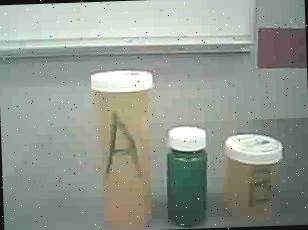Bottle A: (84, 64, 160, 230)
Bottle B: (220, 130, 286, 226)
Bottle C: (162, 122, 216, 230)
